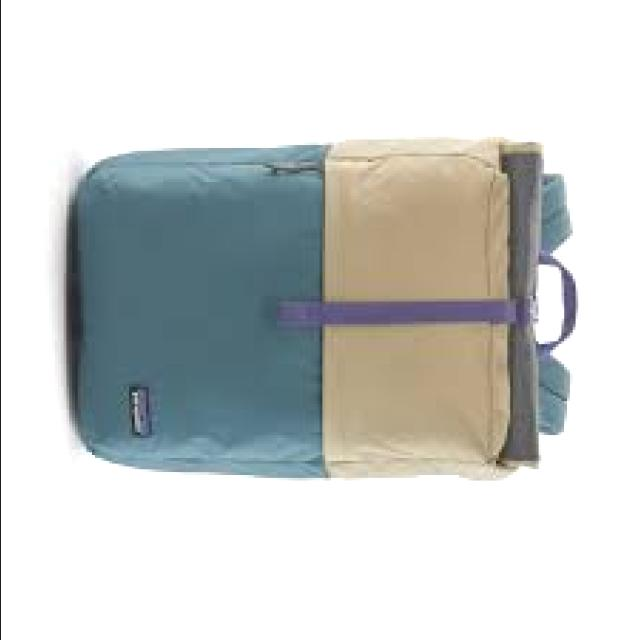backpack: (72, 135, 581, 482)
